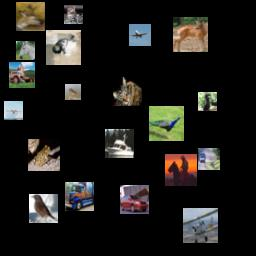airplane: (183, 208, 218, 243), (129, 24, 151, 46), (4, 101, 23, 120)
automobile: (120, 185, 149, 214)
bird: (149, 106, 184, 141), (29, 194, 58, 223), (198, 92, 217, 111), (65, 84, 81, 100)
cat: (46, 30, 81, 65), (113, 77, 142, 106), (64, 5, 83, 24)
deer: (173, 17, 208, 52), (16, 2, 45, 31)
frog: (28, 139, 60, 171)
ship: (105, 129, 134, 158)
truck: (65, 182, 94, 211), (9, 62, 35, 88), (198, 148, 220, 170)
